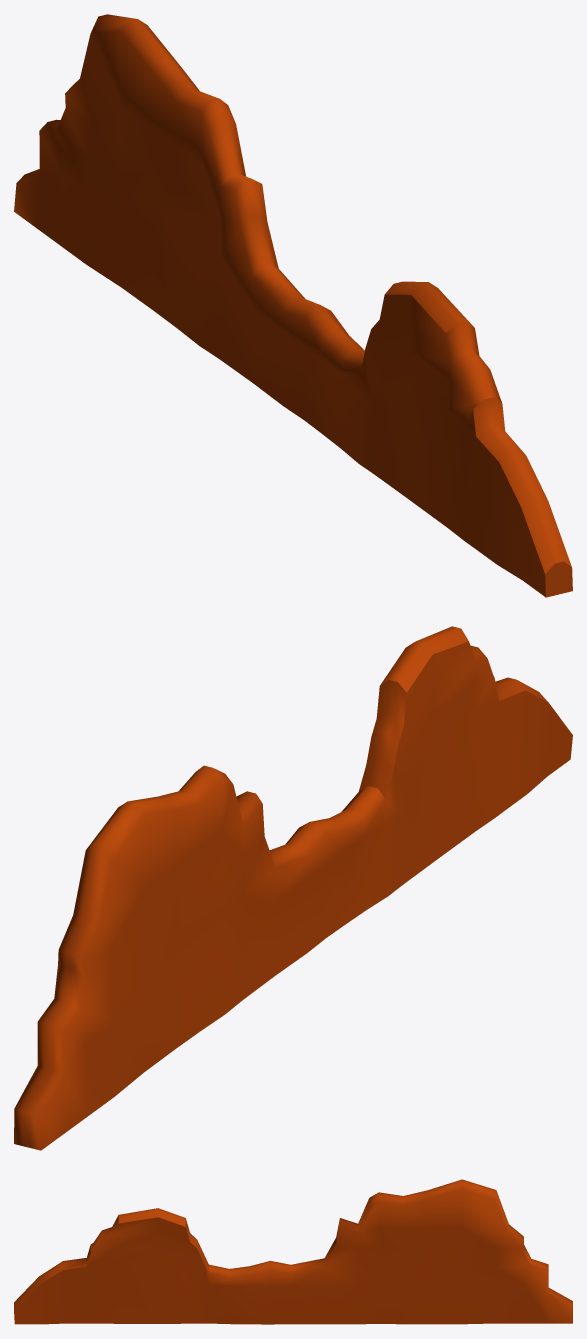
The model's file is Prop_RuinWall3.FBX.
3 views of the same model, one above another, from view 1: azimuth 30°, elevation 25°; view 2: azimuth 150°, elevation 25°; view 3: azimuth 270°, elevation 25° (orthographic). The views are drawn at different scales.
Parts seen in each view (by area): view 1: Ruin wall 3; view 2: Ruin wall 3; view 3: Ruin wall 3.
Boxes of the visible parts, <box> form: Ruin wall 3: <box>14,14,572,597</box>; Ruin wall 3: <box>14,626,572,1150</box>; Ruin wall 3: <box>14,1179,572,1324</box>.
Bounding box in the file's own units: 24.68 × 193 × 700.
